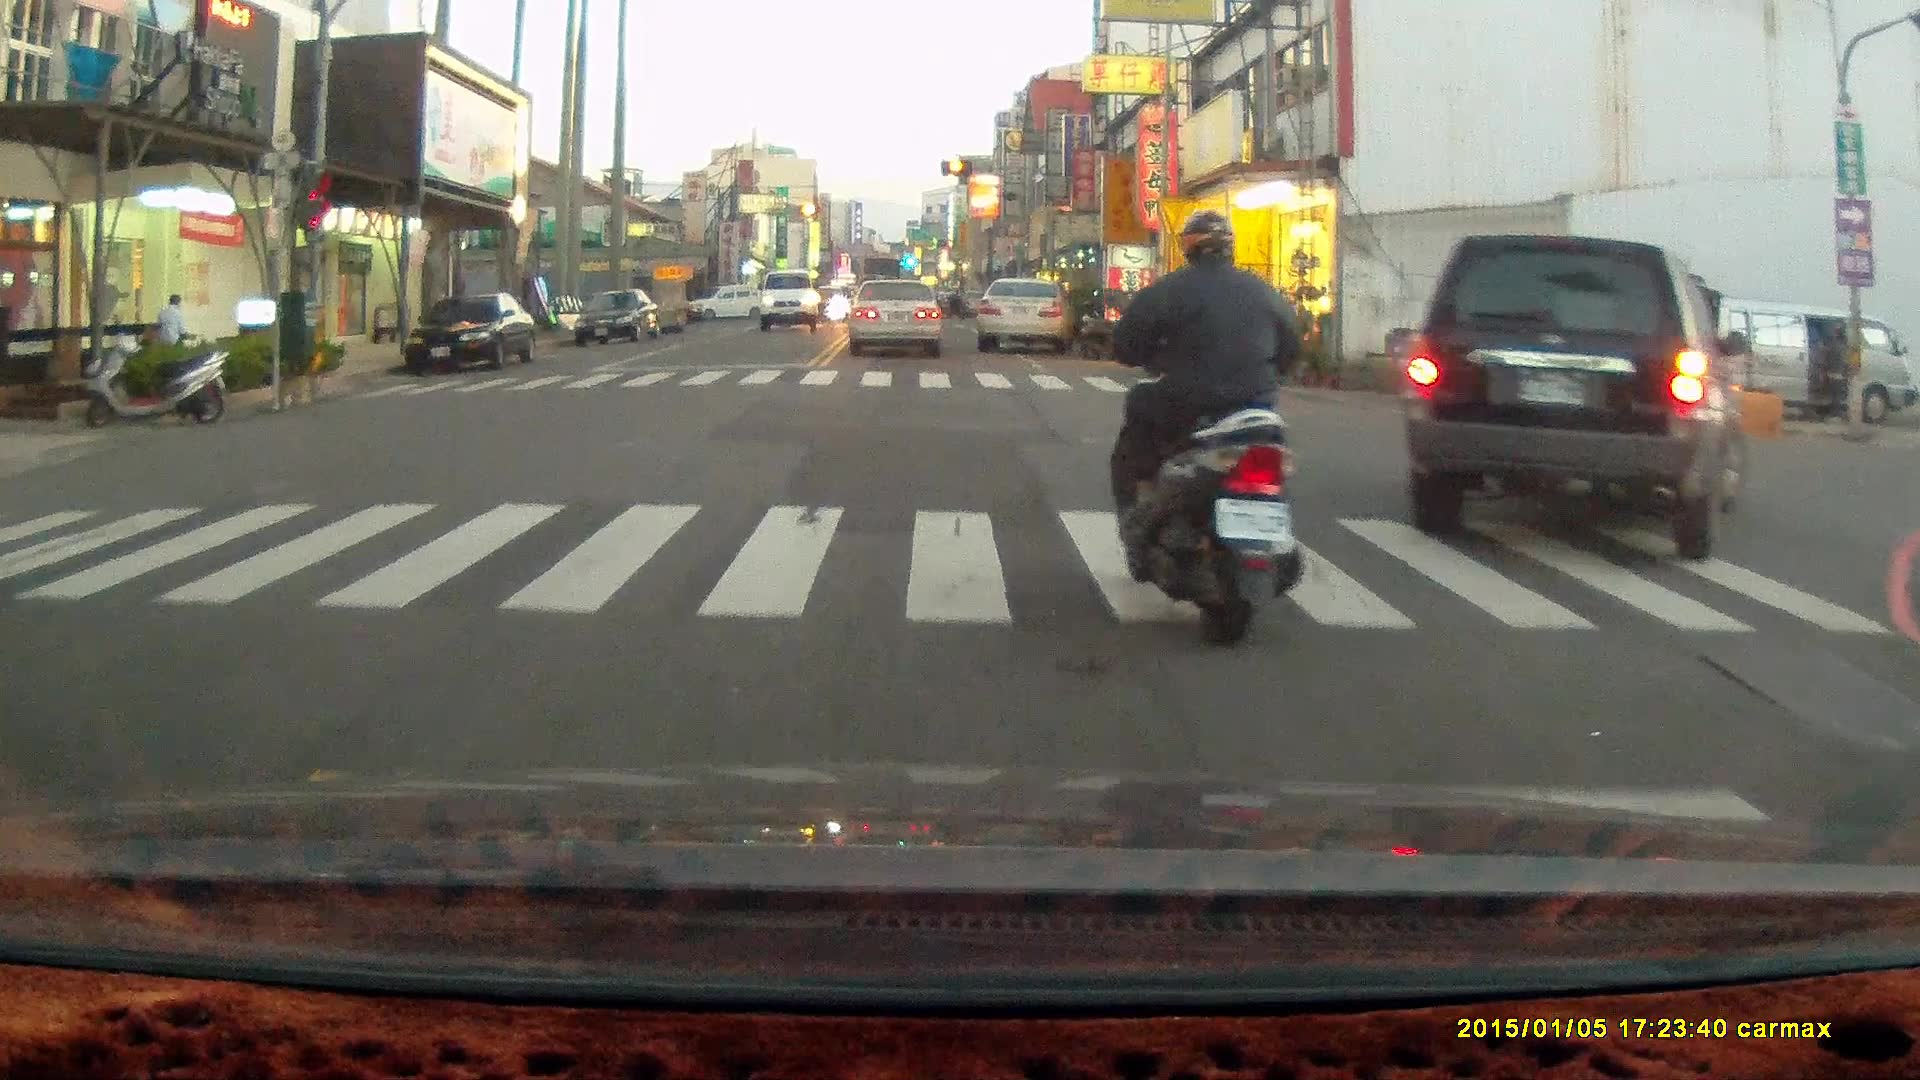pedestrian: (155, 293, 192, 360), (1825, 331, 1850, 422)
rider: (1102, 212, 1310, 654)
vehicle: (1411, 239, 1753, 563), (1675, 298, 1914, 427), (406, 301, 537, 390), (972, 272, 1076, 352), (849, 281, 945, 361), (574, 293, 663, 354), (760, 272, 823, 338)
